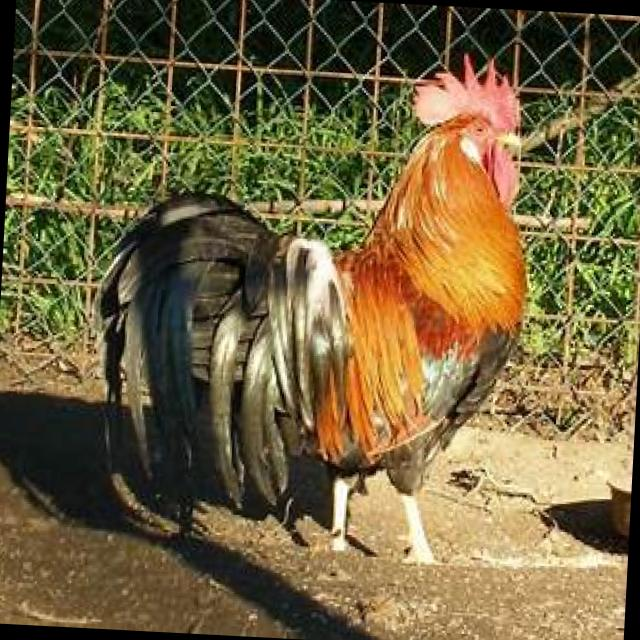animal: (70, 29, 536, 604)
